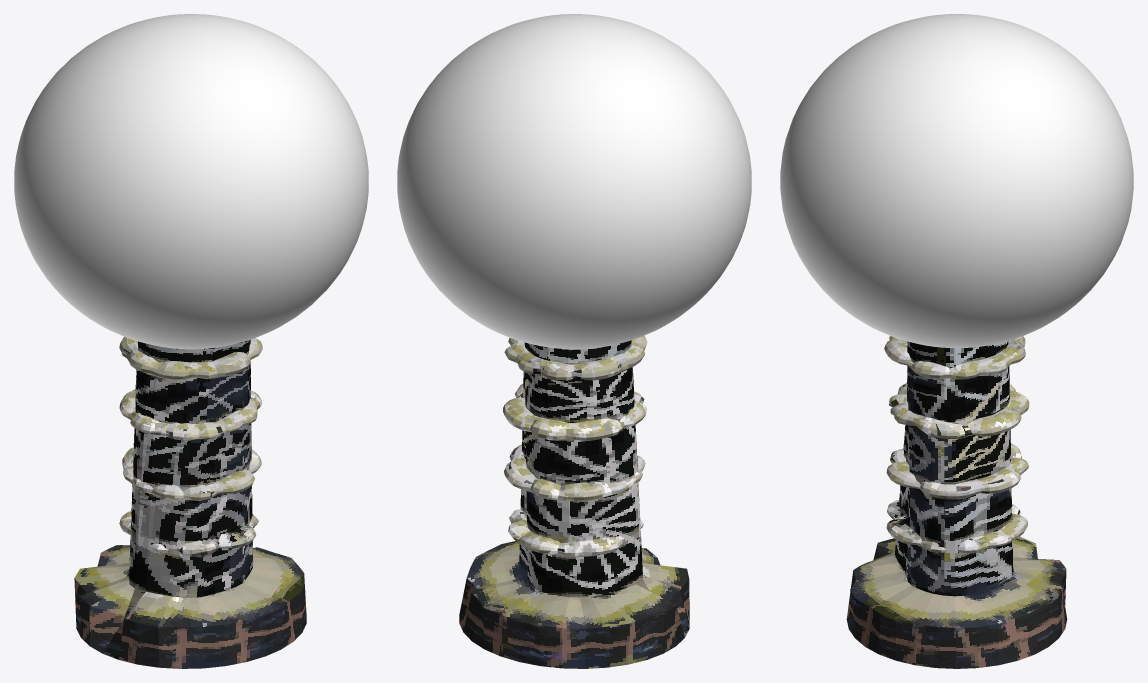
The model's file is shield_generator.glb.
The picture shows the model from 3 angles, left to right: view 1: azimuth 30°, elevation 25°; view 2: azimuth 150°, elevation 25°; view 3: azimuth 270°, elevation 25°; orthographic projection.
Parts seen in each view (by area): view 1: spiderweb, Torus_005; view 2: spiderweb, Torus_005; view 3: spiderweb, Torus_005.
Part boxes in pixels (<box>): spiderweb: <box>14,14,368,349</box>; Torus_005: <box>74,336,306,668</box>; spiderweb: <box>397,14,751,349</box>; Torus_005: <box>459,336,689,668</box>; spiderweb: <box>780,14,1133,348</box>; Torus_005: <box>846,336,1067,668</box>.
Bounding box in the file's own units: 78.75 × 144 × 78.75.
Materials: 3 (1 with a texture image).
